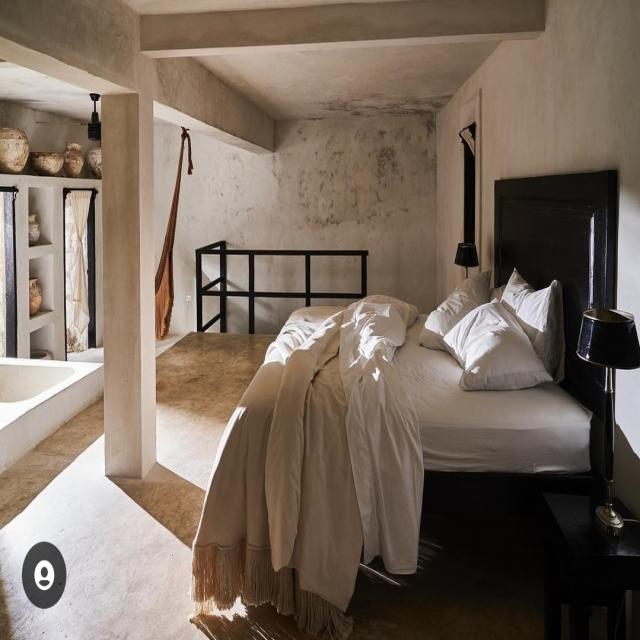bed: (231, 264, 603, 573)
